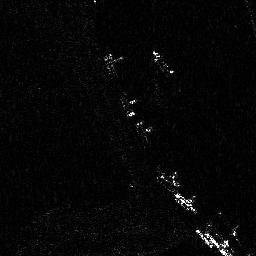ship: (150, 50, 174, 74)
